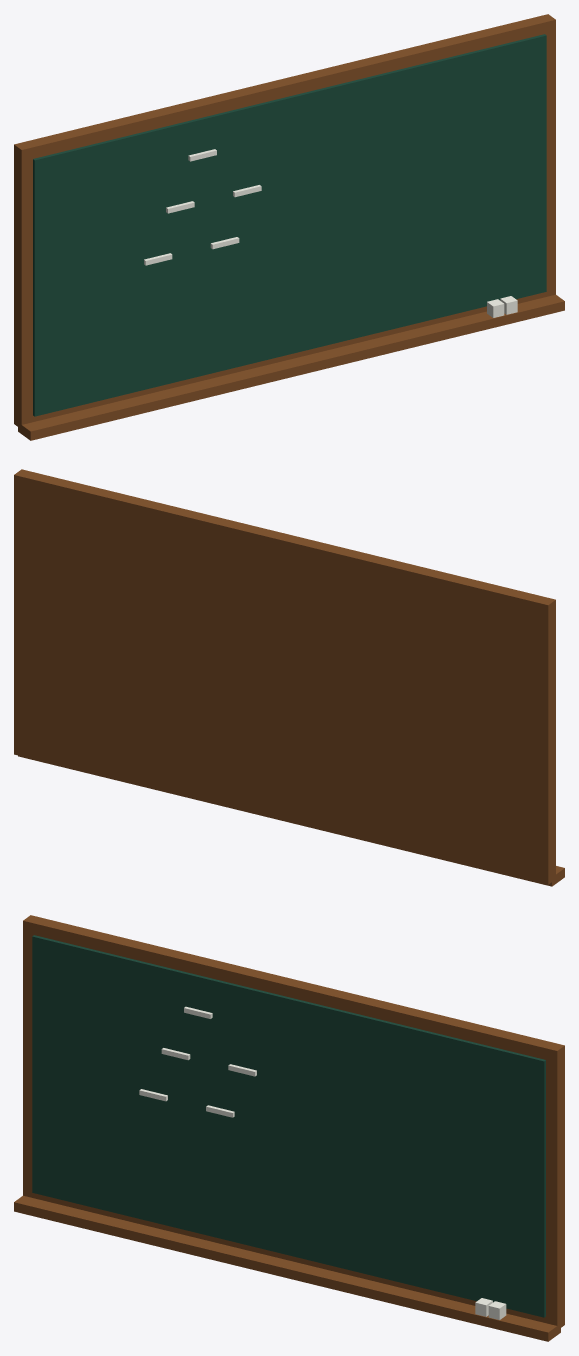
File: blackboard.fbx
3 views of the same model, one above another, from view 1: azimuth 30°, elevation 25°; view 2: azimuth 150°, elevation 25°; view 3: azimuth 330°, elevation 25° (orthographic).
Visible parts, largest first — view 1: blackboard; view 2: blackboard; view 3: blackboard.
Boxes of the visible parts, left/top/right/bottom form: blackboard: left=14, top=14, right=564, bottom=440; blackboard: left=14, top=469, right=564, bottom=886; blackboard: left=14, top=915, right=564, bottom=1341.
Size of the model in its own units: 2.4 by 1.22 by 0.135.
